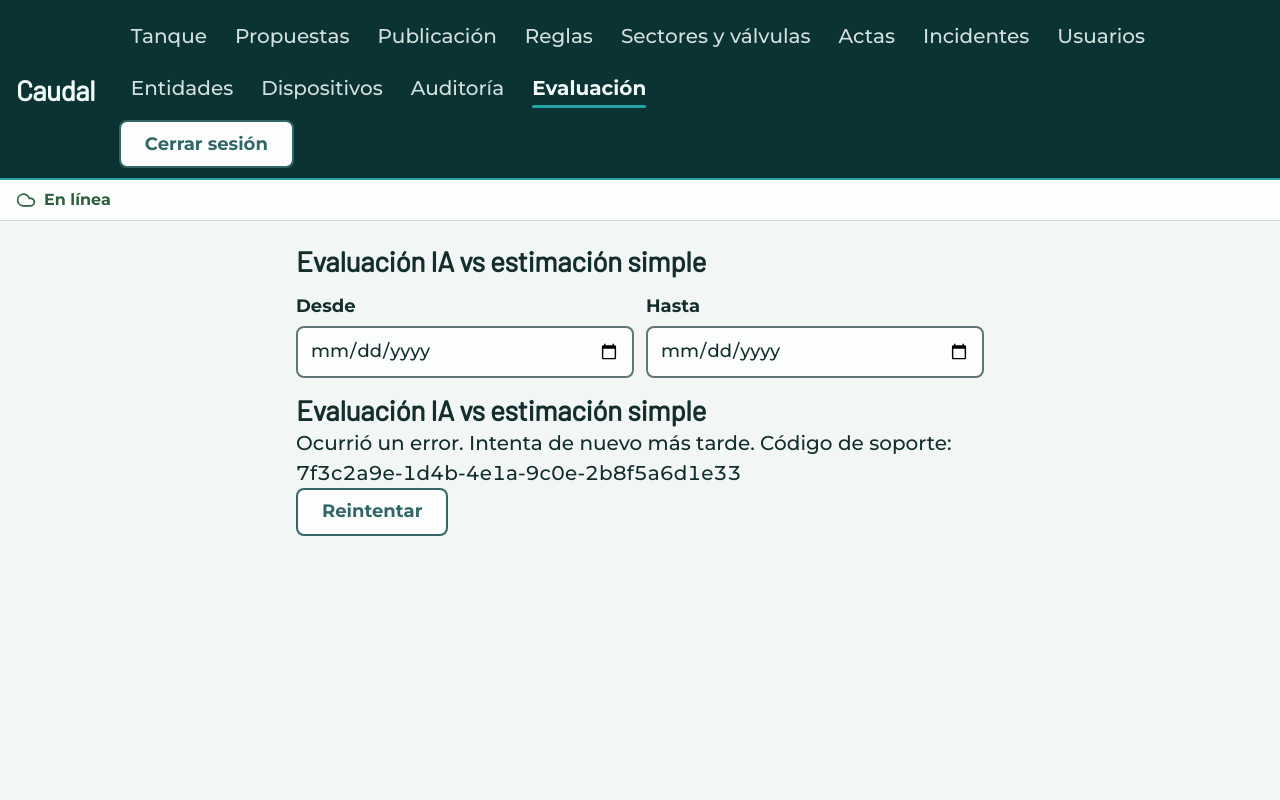
EvaluationPage states (S23) › offers a retry when the evaluation fails, and shows it once the retry works
Click the button "Reintentar": (372, 512) [296,488,448,536]
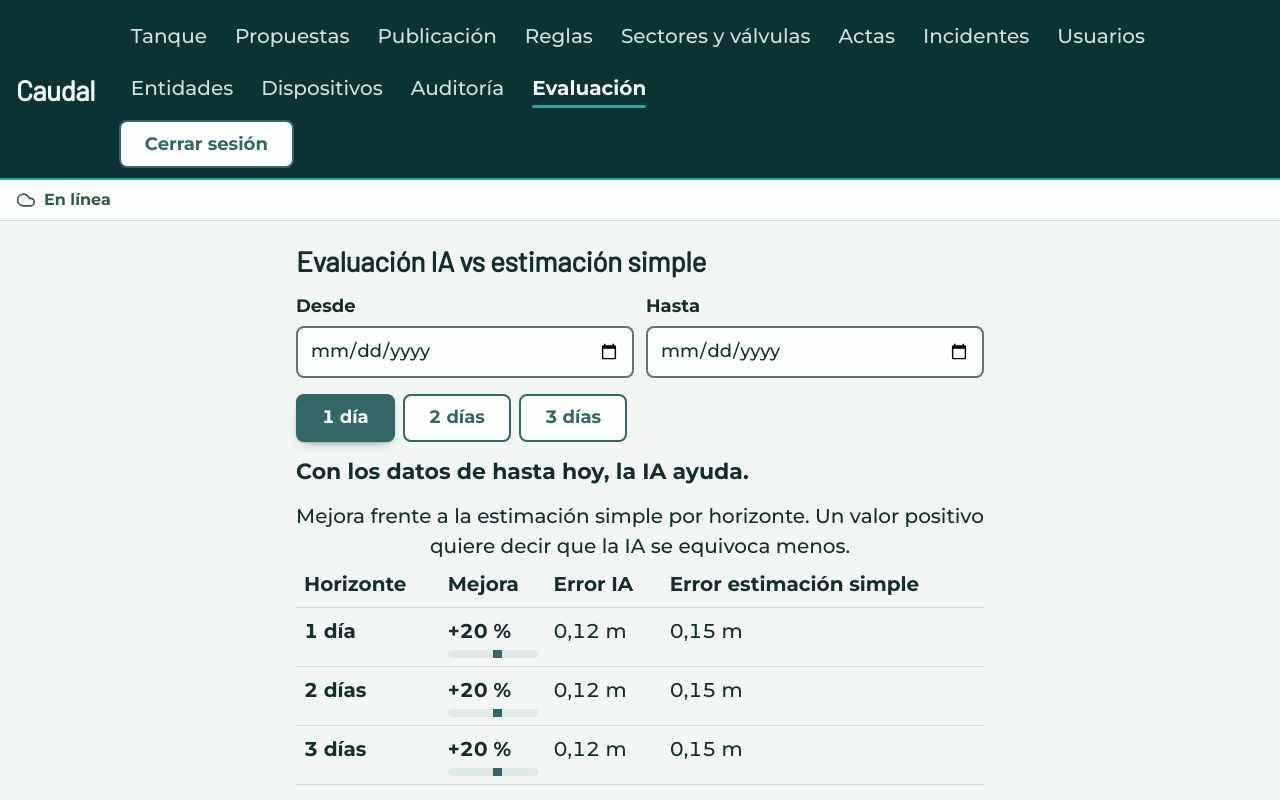
Expected: the heading "Con los datos de hasta hoy, la IA ayuda." is shown, [296,458,749,485]
